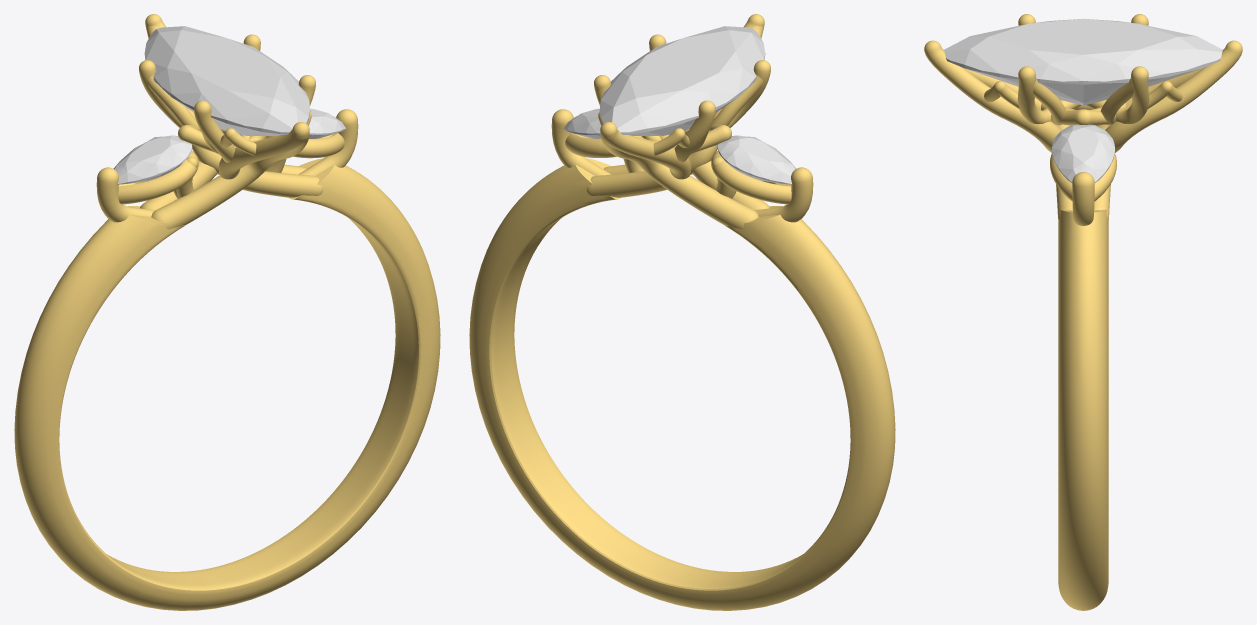
Rendered from ChristianV3YG_blender.glb.
3 views of the same model, side by side, from view 1: azimuth 30°, elevation 25°; view 2: azimuth 150°, elevation 25°; view 3: azimuth 270°, elevation 25° (orthographic). The views are drawn at different scales.
Visible parts, largest first — view 1: v3 Christian YG for 3d model, Christian dia for 3d model.002, Christian dia for 3d model, Christian dia for 3d model.001; view 2: v3 Christian YG for 3d model, Christian dia for 3d model.002, Christian dia for 3d model, Christian dia for 3d model.001; view 3: v3 Christian YG for 3d model, Christian dia for 3d model.002, Christian dia for 3d model.001.
Boxes of the visible parts, <box> form: v3 Christian YG for 3d model: <box>14,14,440,610</box>; Christian dia for 3d model.002: <box>144,26,310,135</box>; Christian dia for 3d model: <box>113,135,192,184</box>; Christian dia for 3d model.001: <box>308,108,346,138</box>; v3 Christian YG for 3d model: <box>469,14,895,610</box>; Christian dia for 3d model.002: <box>599,26,765,135</box>; Christian dia for 3d model: <box>717,135,796,184</box>; Christian dia for 3d model.001: <box>563,108,601,138</box>; v3 Christian YG for 3d model: <box>924,14,1242,610</box>; Christian dia for 3d model.002: <box>944,18,1222,105</box>; Christian dia for 3d model.001: <box>1052,124,1114,182</box>.
Size of the model in its own units: 19.7 by 24.13 by 12.65.
